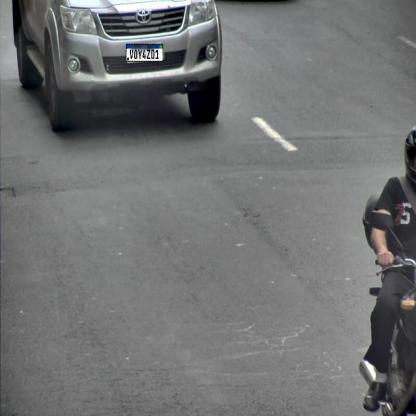PlacaM: (126, 43, 163, 62)
